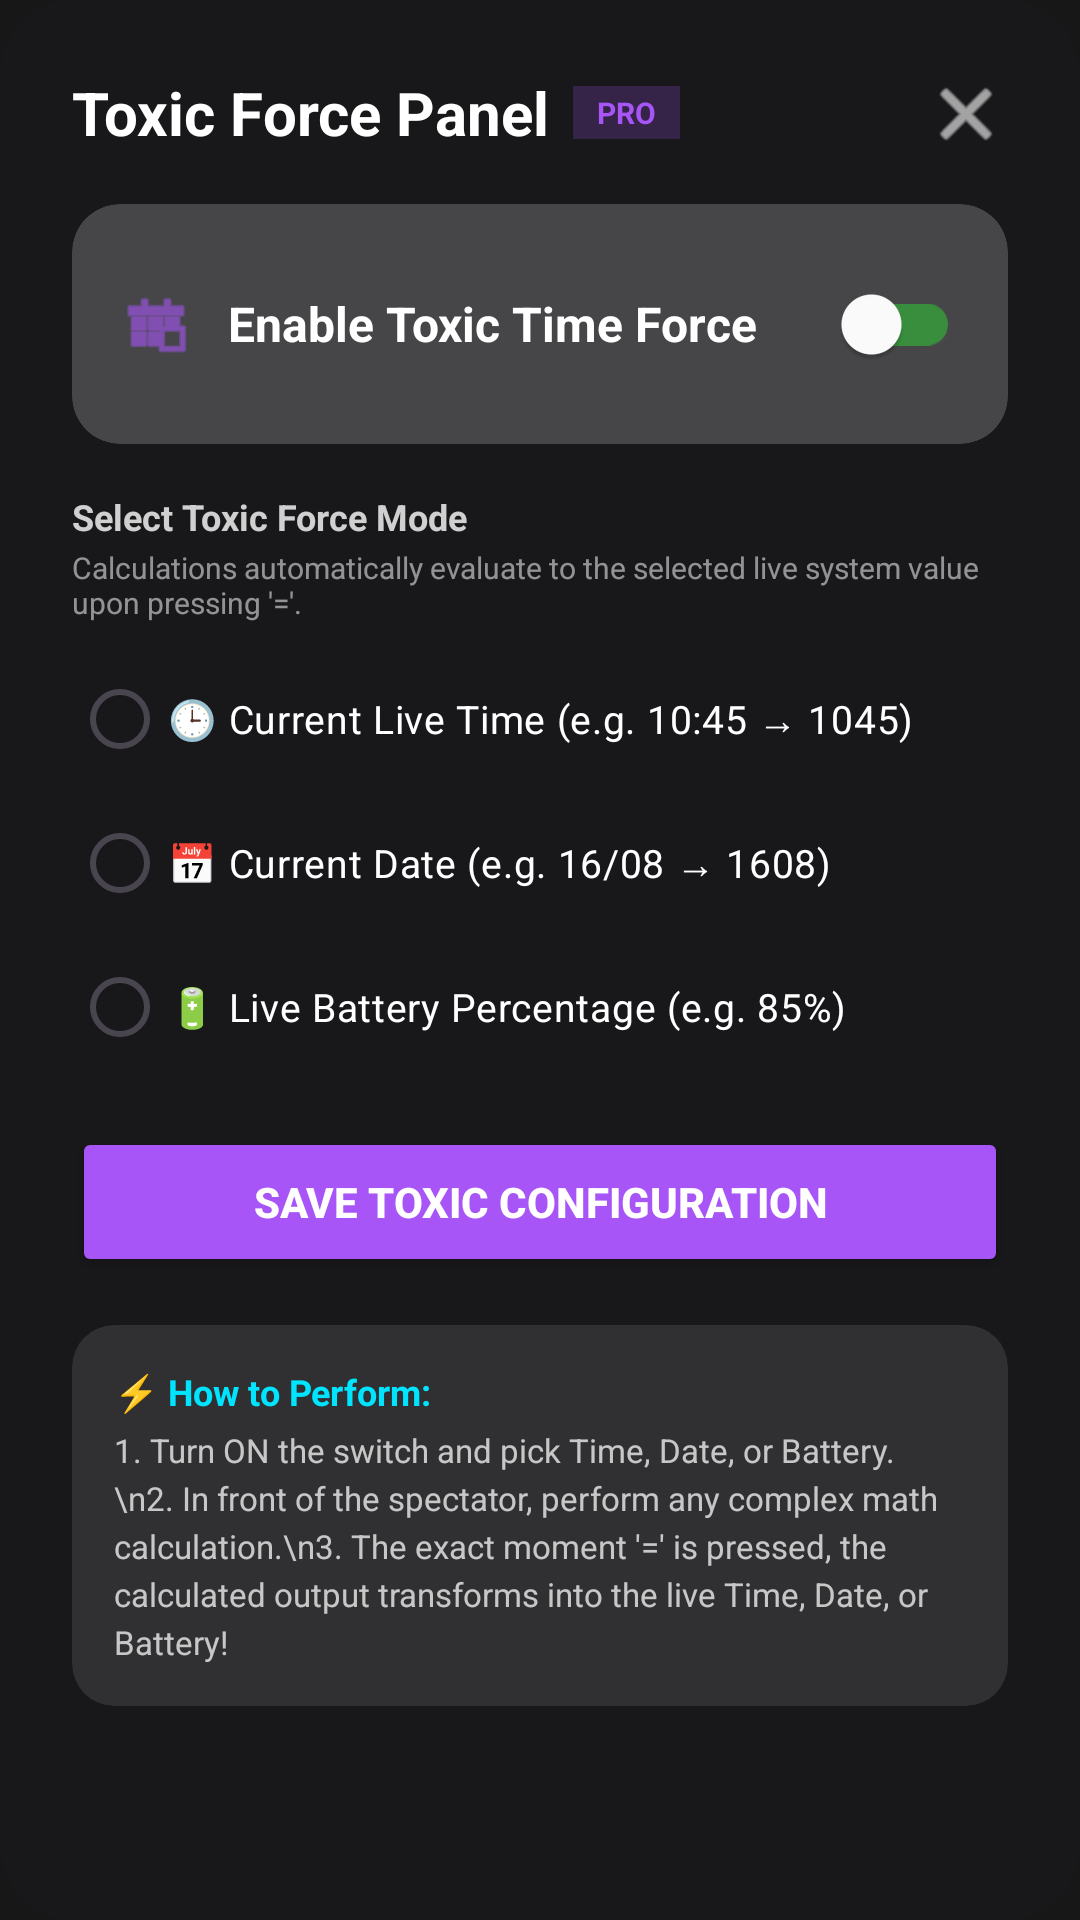

Named icons in this screenshot (1080w x 1920h) and their centers, (x,y):
close clear cancel: (966,114)
today: (156,325)
